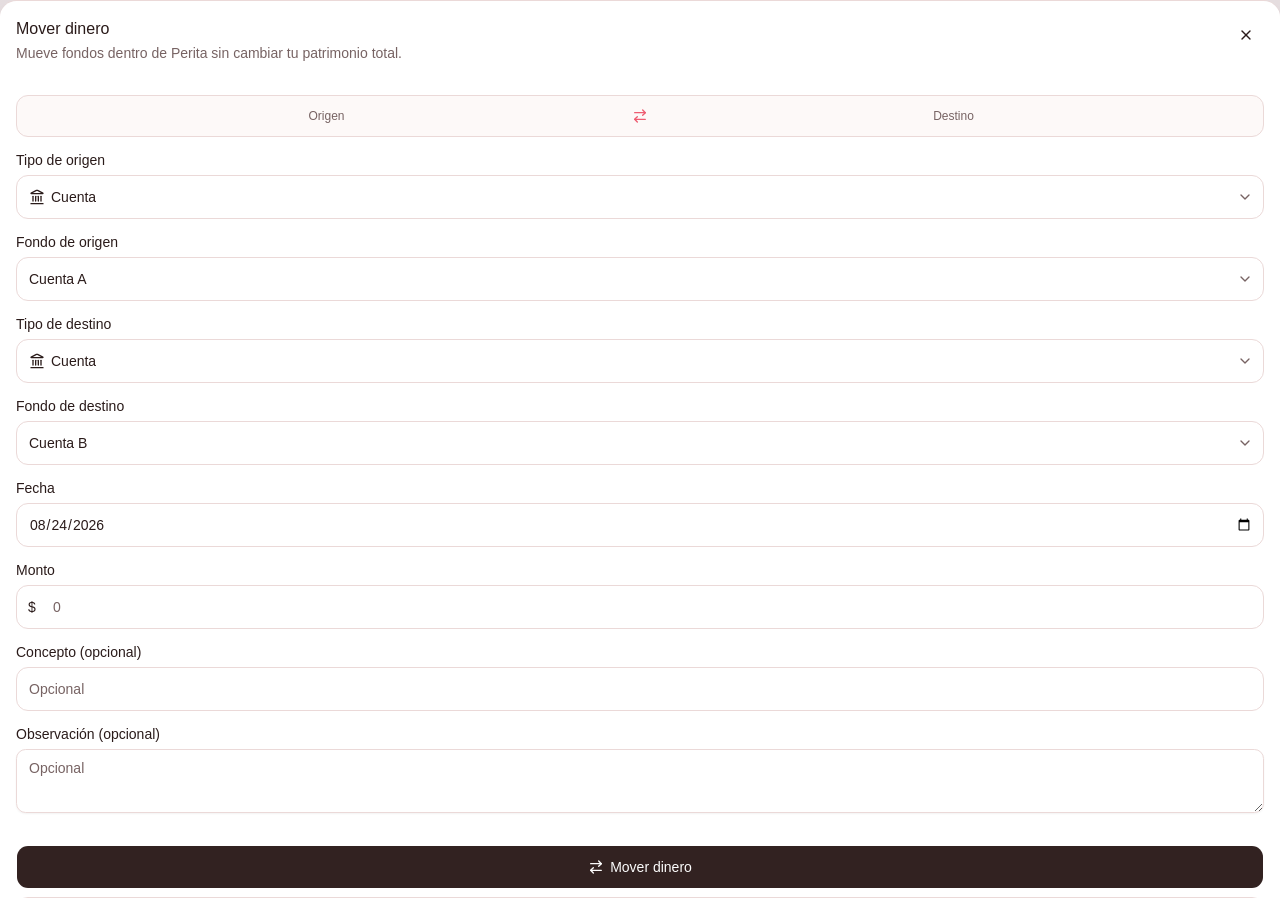
TransferForm C6F › uses the shared sheet, independent rows, optional labels, and CLP input
In the field labelled "Monto": (640, 607) [16,585,1264,629], type "1500000"
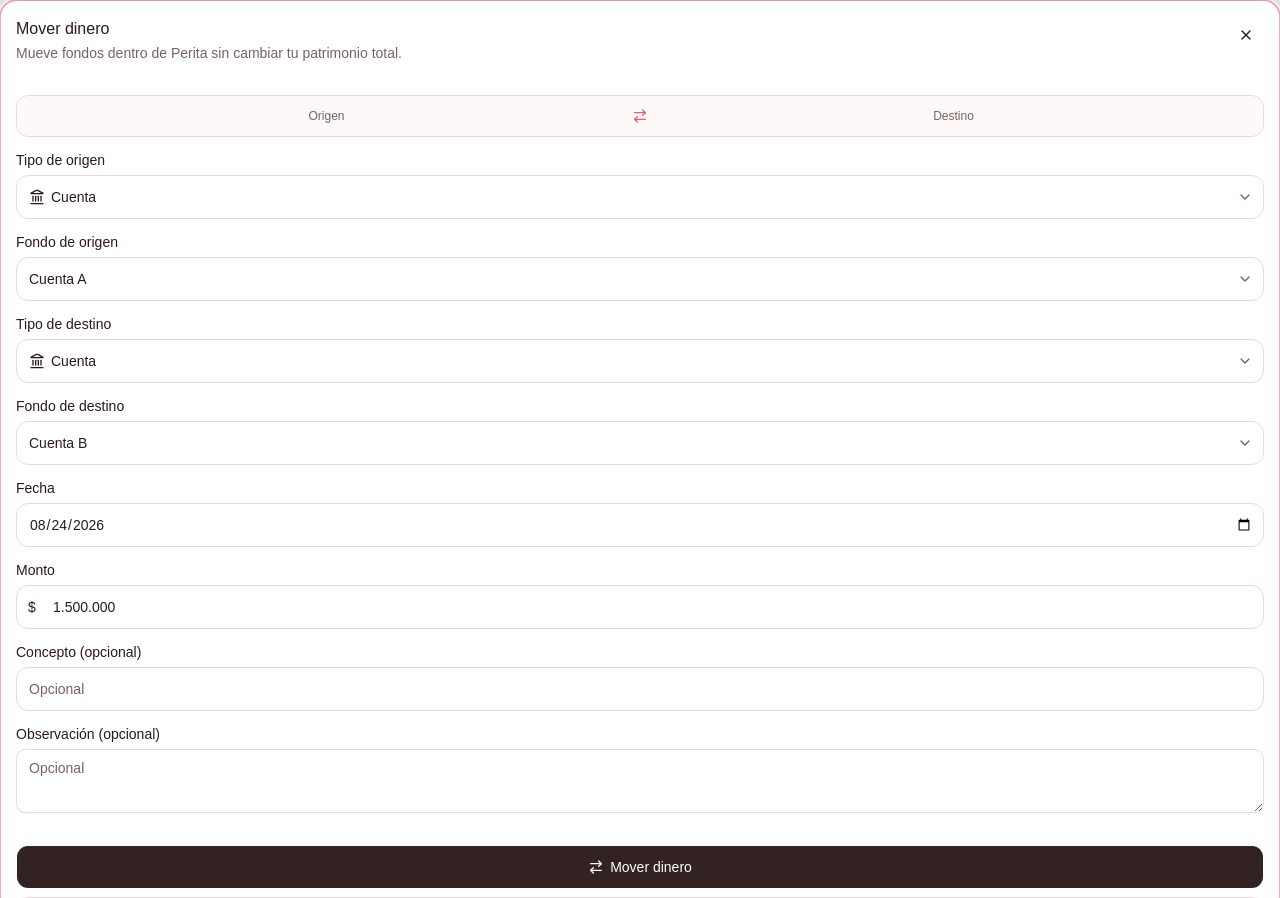
Expected: the field labelled "Monto" holds "1.500.000", [16,585,1264,629]
